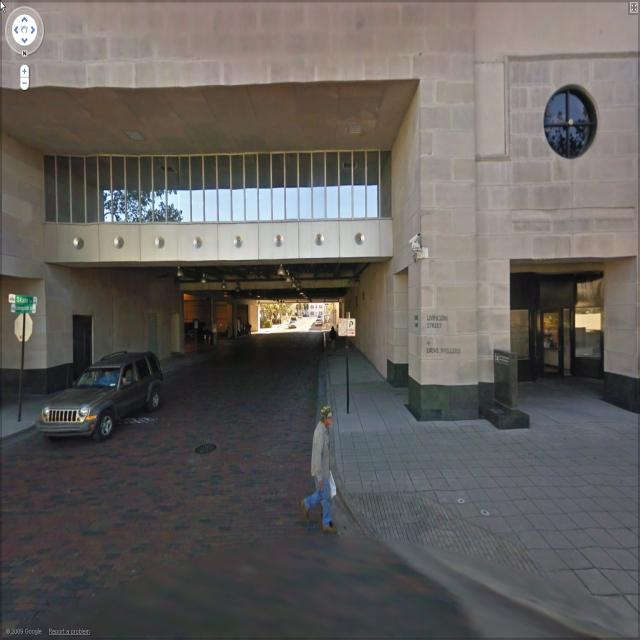b_1: (15, 1, 623, 400)
